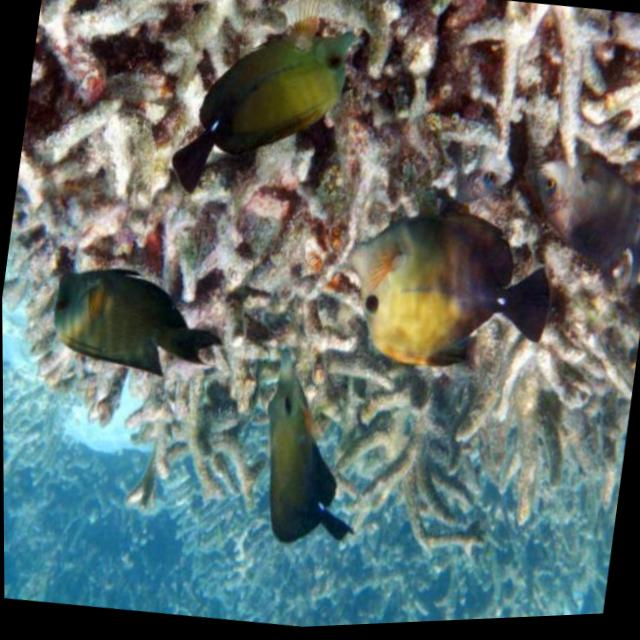Dead Coral: (0, 0, 640, 605), (338, 360, 604, 594), (5, 0, 218, 286), (407, 0, 640, 244), (205, 155, 375, 366), (123, 376, 259, 528)
